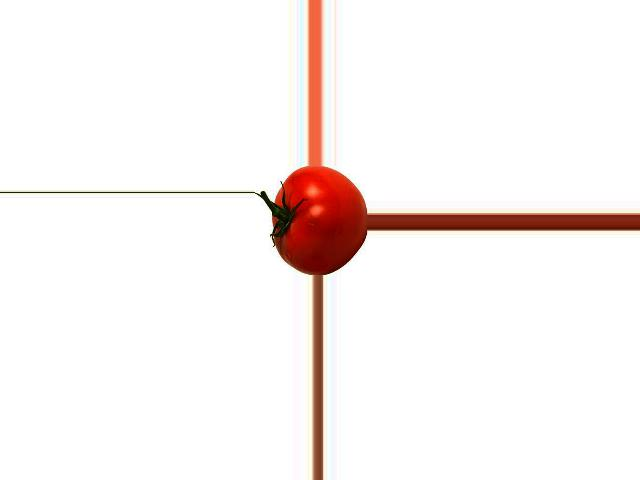tomato: (271, 166, 366, 276)
